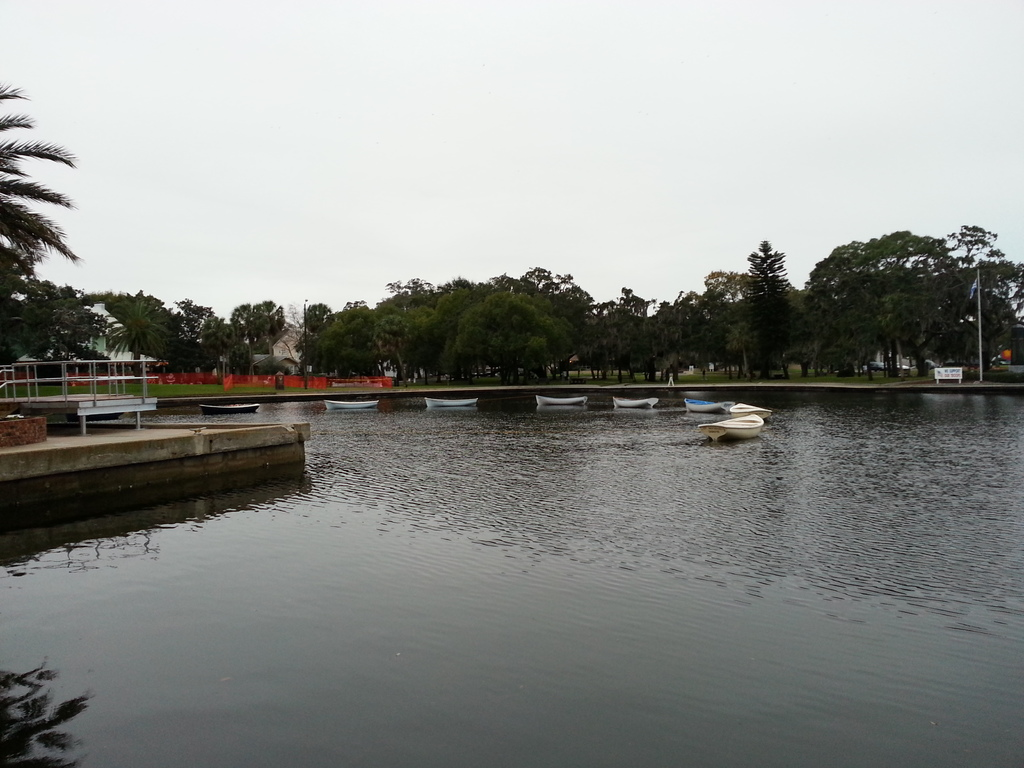Tree: (302, 245, 817, 380), (0, 289, 307, 385), (806, 211, 979, 376), (0, 85, 80, 264), (952, 222, 1023, 378)
